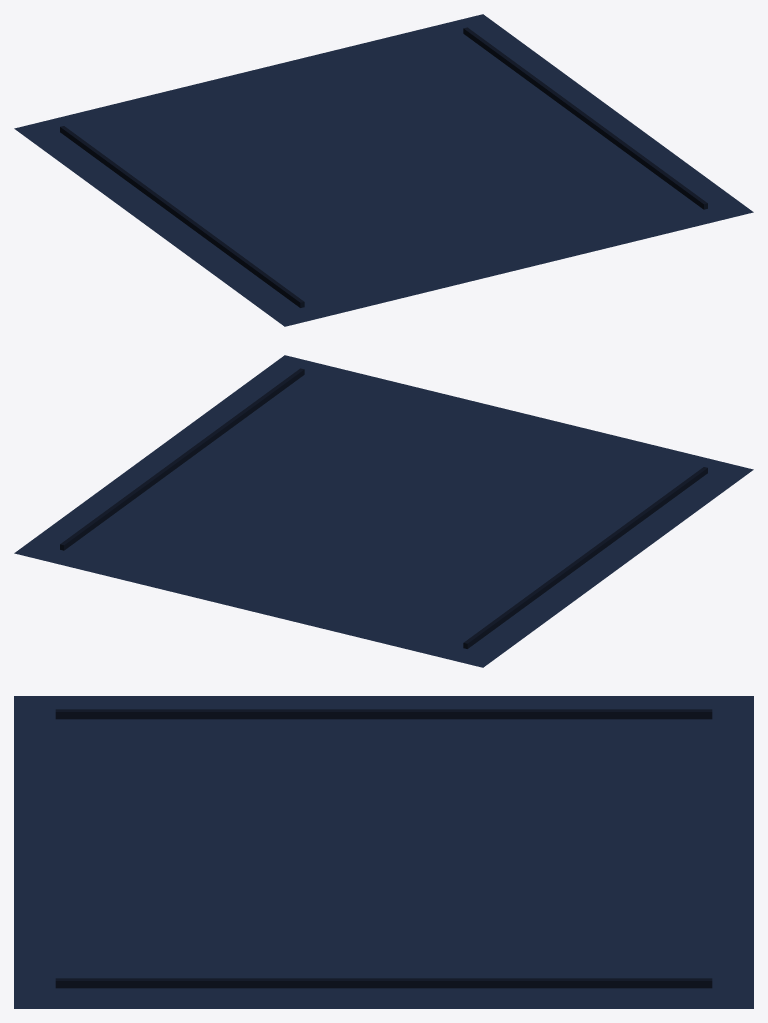
File: RackTop.fbx
3 views of the same model, one above another, from view 1: azimuth 30°, elevation 25°; view 2: azimuth 150°, elevation 25°; view 3: azimuth 270°, elevation 25° (orthographic). The views are drawn at different scales.
Visible parts, largest first — view 1: KIT_RackTop_Mesh; view 2: KIT_RackTop_Mesh; view 3: KIT_RackTop_Mesh.
Part boxes in pixels (<box>): KIT_RackTop_Mesh: <box>14,14,753,326</box>; KIT_RackTop_Mesh: <box>14,355,753,667</box>; KIT_RackTop_Mesh: <box>14,696,753,1008</box>.
Size of the model in its own units: 4 by 0.044 by 4.
